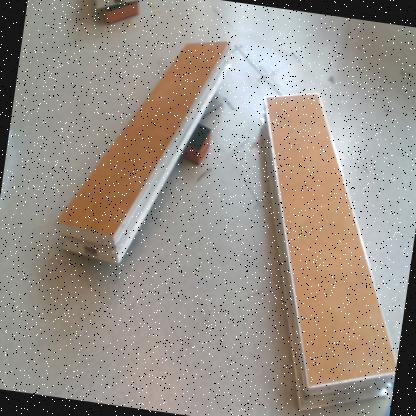Stairs: (261, 91, 397, 410), (55, 42, 233, 266), (94, 1, 139, 8)
